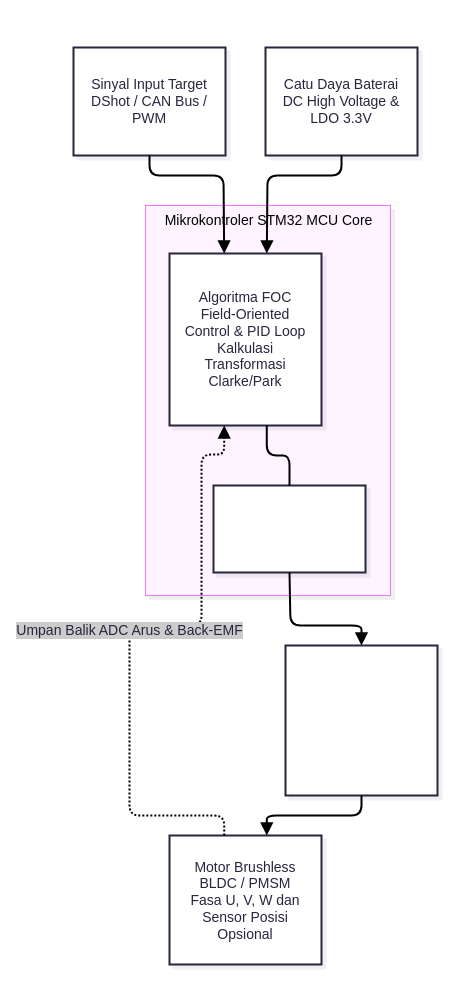
Some shapes in this 460 by 986 pixel diagram are drawn without their labels. The centre of each missing label's shape, as x and y in pixels:
"Generator SVPWM Advanced Timer" belongs at [291,530].
"Tahap Daya Power Stage 3-Phase Gate Driver & Rangkaian MOSFET Inverter" belongs at [363,722].
